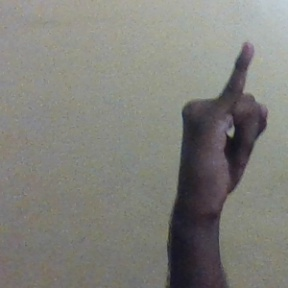I: (176, 41, 271, 211)
